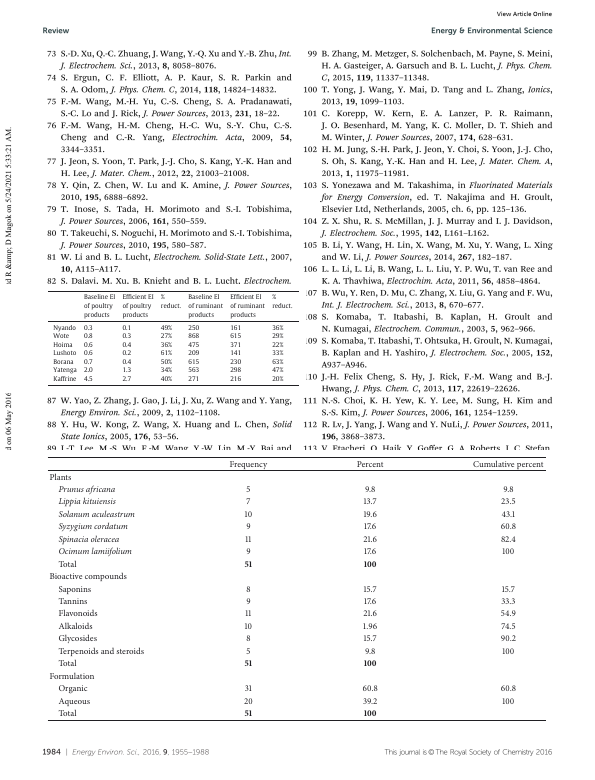borderless: (46, 455, 546, 720), (47, 289, 299, 385)
cell: (57, 646, 145, 657), (187, 294, 224, 319), (229, 294, 266, 319), (48, 571, 128, 582), (57, 509, 136, 520), (57, 546, 133, 557), (83, 294, 116, 319), (122, 294, 155, 319), (472, 459, 545, 470), (57, 522, 129, 532), (57, 534, 120, 545), (57, 484, 116, 495), (57, 497, 117, 507), (48, 671, 95, 682), (229, 459, 268, 470), (57, 609, 99, 619), (57, 634, 98, 644), (57, 621, 94, 632), (57, 696, 91, 707), (271, 294, 294, 310), (160, 294, 182, 310), (57, 683, 89, 694), (57, 584, 92, 594), (57, 596, 88, 607), (356, 459, 385, 470), (48, 472, 72, 482), (52, 375, 78, 384), (57, 559, 78, 570), (57, 708, 78, 719), (52, 349, 77, 358), (57, 659, 78, 669), (52, 367, 78, 375), (52, 324, 77, 332), (500, 534, 517, 545), (500, 621, 517, 632), (362, 683, 379, 694), (500, 683, 517, 694), (52, 358, 75, 366), (52, 341, 74, 349), (362, 509, 378, 520), (362, 534, 378, 545), (500, 596, 516, 607), (362, 621, 378, 632), (362, 696, 378, 707), (500, 497, 517, 507), (500, 522, 517, 532), (500, 609, 517, 619), (500, 634, 517, 644), (501, 509, 516, 520), (52, 332, 70, 341), (362, 609, 378, 619), (363, 546, 377, 557), (501, 546, 515, 557), (363, 596, 377, 607), (501, 646, 515, 657), (501, 696, 515, 707), (363, 497, 378, 507), (363, 584, 378, 594), (501, 584, 516, 594), (363, 634, 378, 644), (502, 484, 515, 495), (363, 522, 377, 532), (363, 708, 378, 717), (364, 484, 376, 495), (364, 646, 376, 657), (243, 696, 254, 707), (363, 559, 378, 567), (363, 659, 378, 667), (160, 332, 173, 341), (187, 332, 200, 341), (229, 332, 242, 341), (271, 332, 284, 341), (160, 349, 173, 358), (187, 349, 200, 358), (229, 349, 242, 358), (271, 349, 284, 358), (160, 375, 173, 384), (187, 375, 200, 384), (229, 375, 242, 384), (271, 375, 284, 384), (160, 324, 173, 332), (187, 324, 200, 332), (229, 324, 242, 332), (271, 324, 284, 332), (160, 341, 173, 349), (187, 341, 200, 349), (229, 341, 242, 349), (271, 341, 284, 349), (160, 358, 173, 366), (187, 358, 200, 366), (229, 358, 242, 366), (271, 358, 284, 366), (160, 367, 173, 375), (187, 367, 200, 375), (229, 367, 242, 375), (271, 367, 284, 375), (83, 332, 94, 341), (83, 349, 94, 358), (83, 375, 94, 384), (244, 509, 253, 520), (244, 621, 253, 632), (244, 683, 253, 694), (122, 332, 132, 341), (122, 349, 132, 358), (122, 375, 132, 384), (83, 324, 94, 332), (83, 341, 94, 349), (83, 358, 94, 366), (83, 367, 94, 375), (244, 534, 252, 545), (244, 708, 253, 717), (122, 324, 132, 332), (122, 341, 132, 349), (122, 358, 132, 366), (122, 367, 132, 375), (244, 609, 252, 619), (245, 546, 252, 557), (245, 596, 252, 607), (244, 559, 253, 567), (244, 659, 253, 667), (245, 522, 252, 532), (245, 584, 252, 594), (245, 634, 252, 644), (245, 484, 251, 495), (245, 646, 251, 657), (245, 497, 251, 507)
